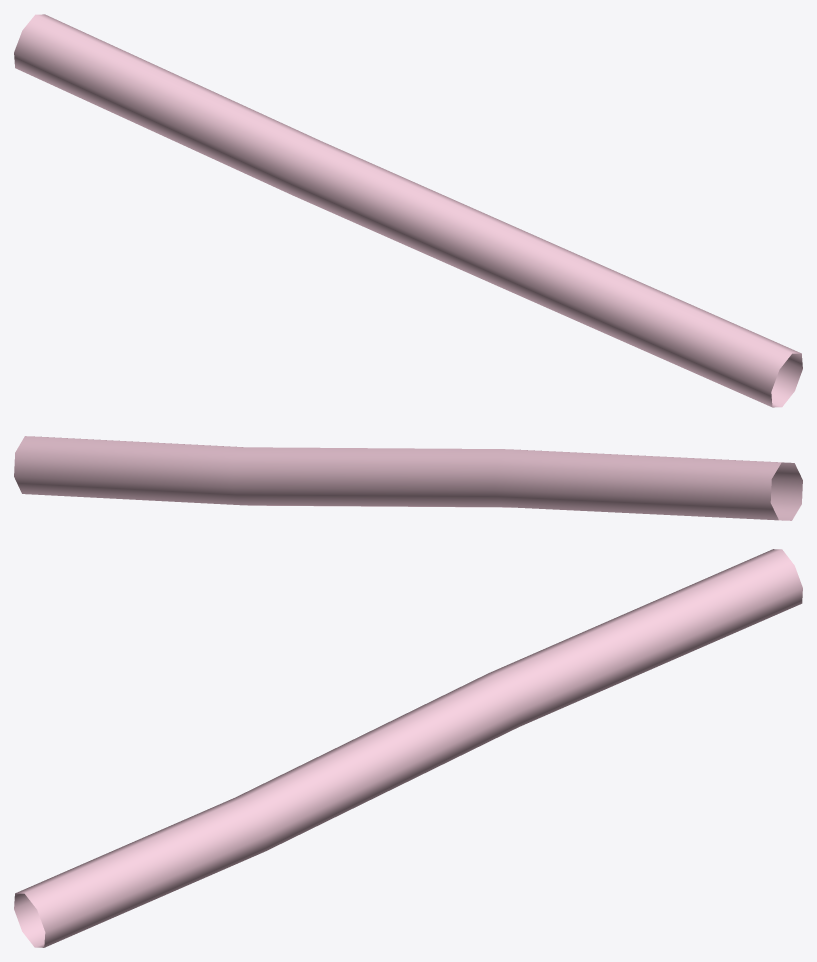
The model's file is chorda_tympani.glb.
3 renders of one model, top to bottom at view 1: azimuth 30°, elevation 25°; view 2: azimuth 210°, elevation 25°; view 3: azimuth 270°, elevation 25°, orthographic.
Visible parts, largest first — view 1: SAMPLE chorda_tympani; view 2: SAMPLE chorda_tympani; view 3: SAMPLE chorda_tympani.
Boxes of the visible parts, box(x1,y1,x2,y2) form: SAMPLE chorda_tympani: box(14, 14, 802, 407); SAMPLE chorda_tympani: box(14, 436, 802, 520); SAMPLE chorda_tympani: box(14, 549, 802, 947).
Size of the model in its own units: 3.15 by 1.49 by 5.
